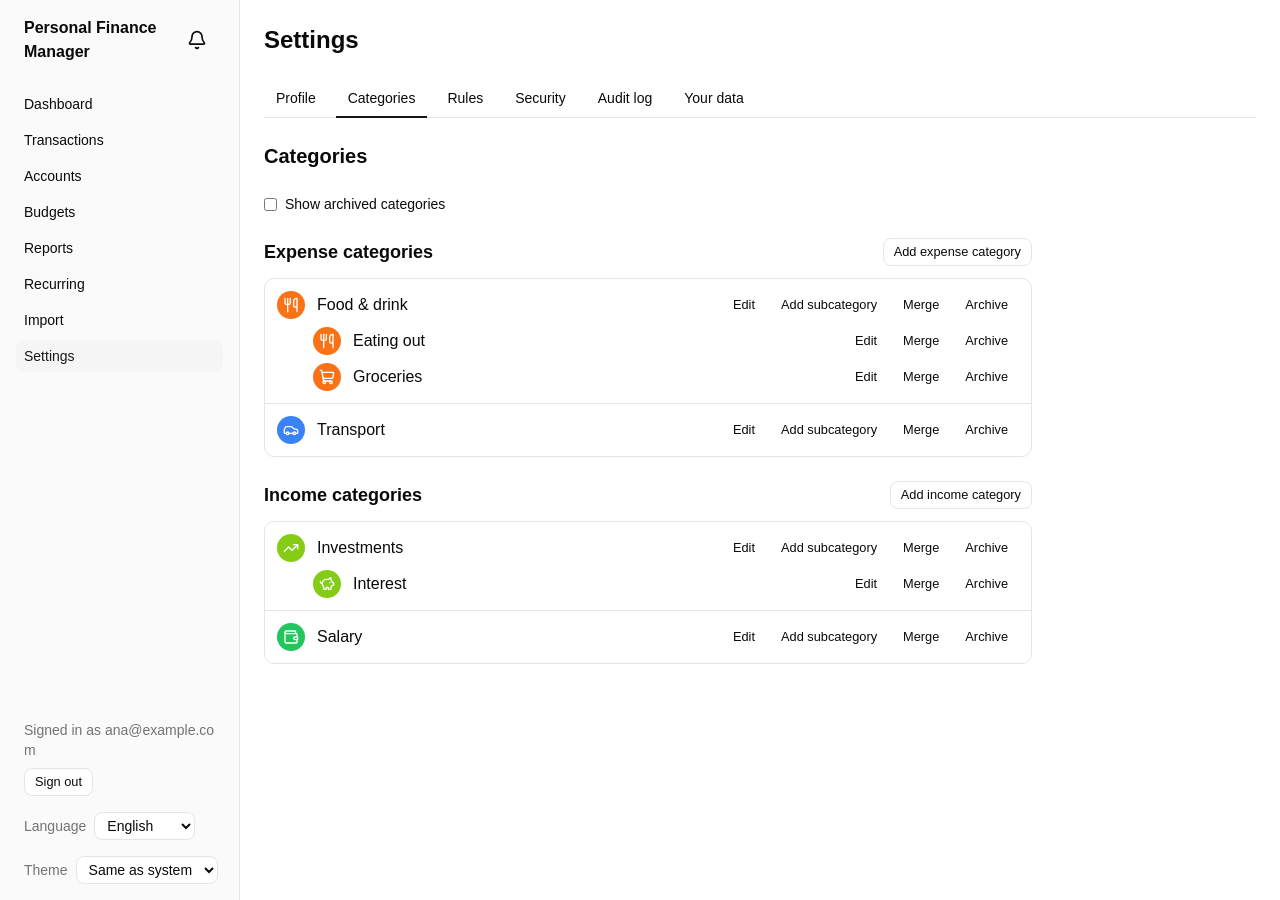
Test case: the categories screen › adds a subcategory, which always has its parent’s kind
Click the button with aria-label "Add subcategory to Food & drink" at (829, 305), box [770,291,888,319]
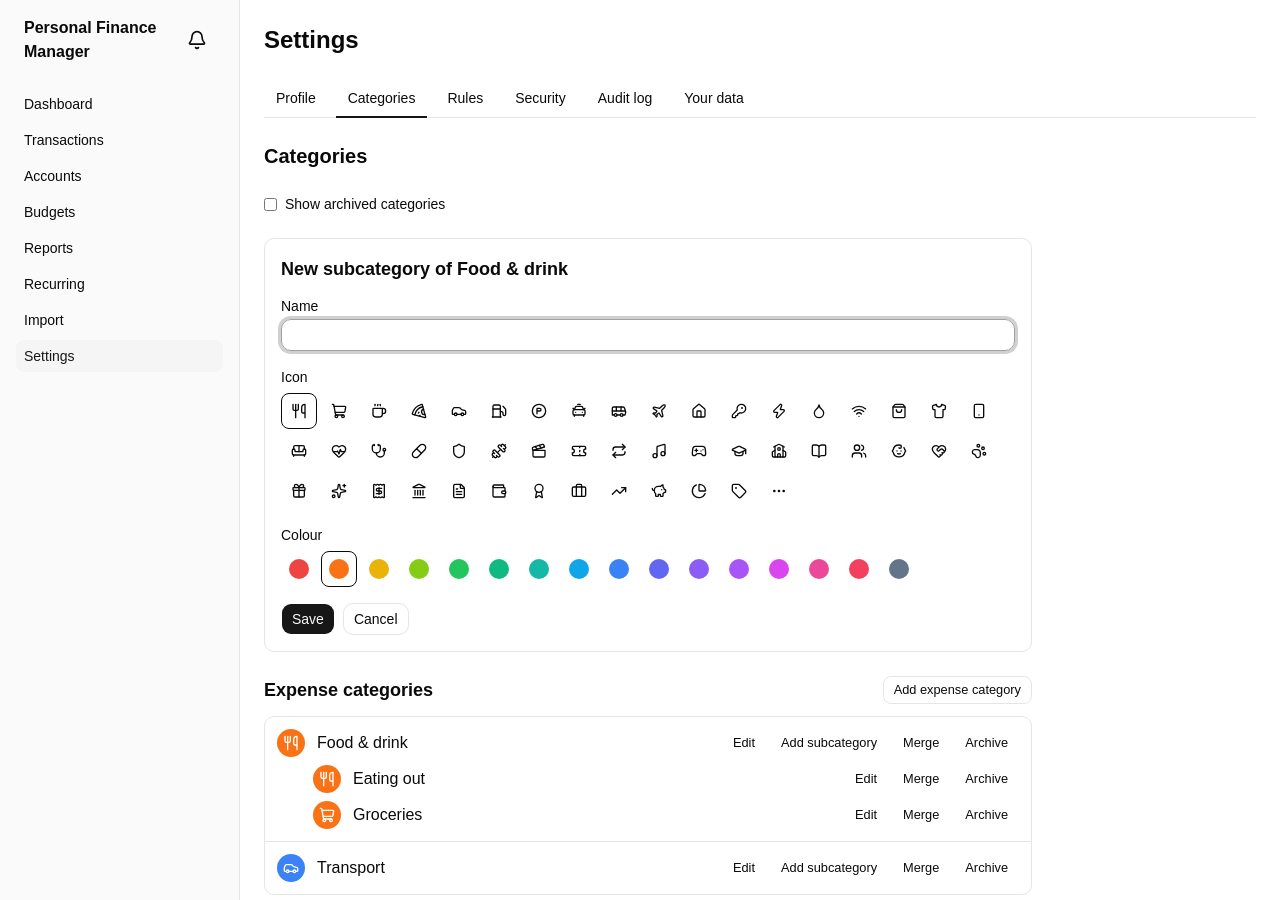
expect the radio button labelled "Income" is not shown: met
Type "Coffee" into the field labelled "Name" at (648, 335), box [281,319,1015,351]
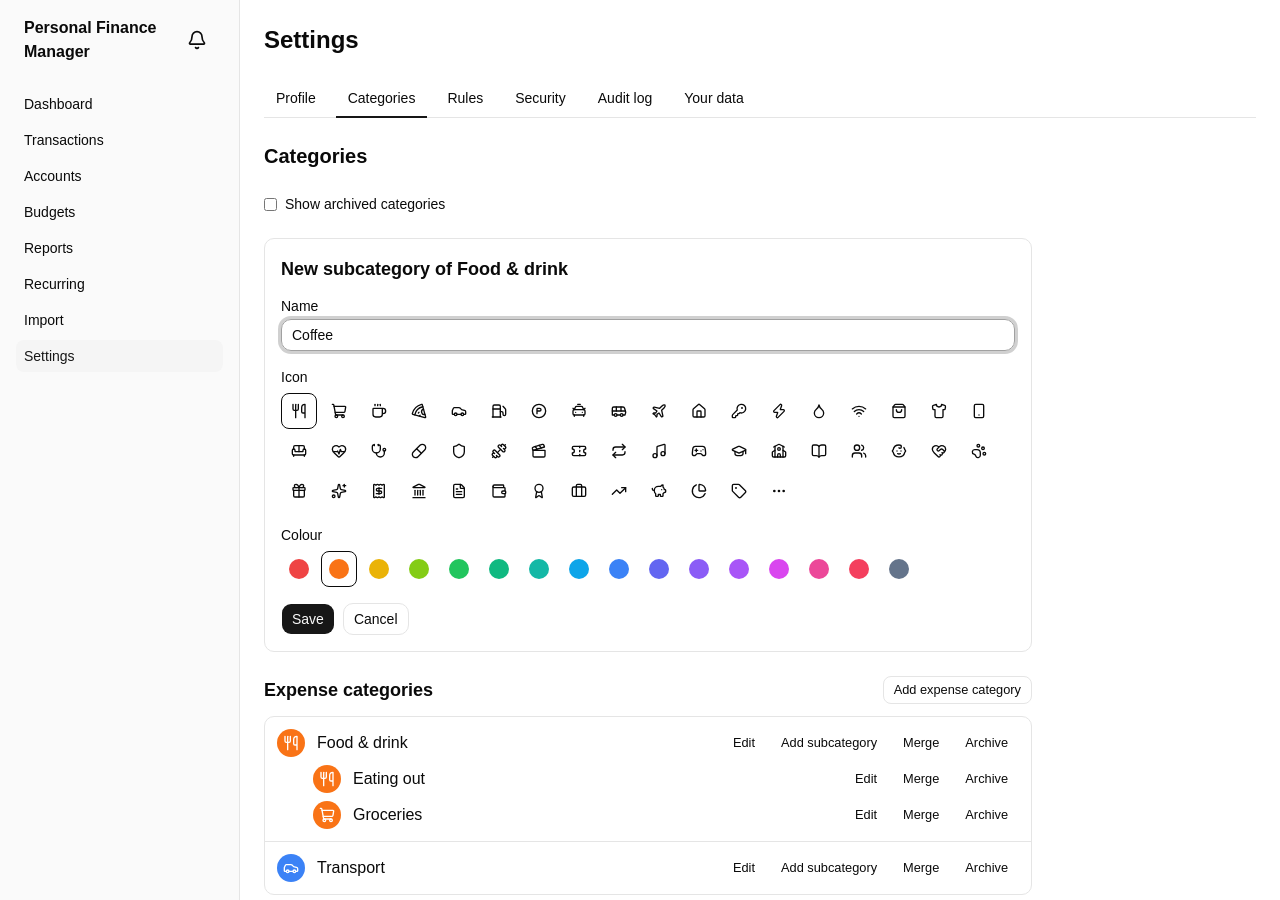
Click the button "Save" at (308, 619), box [281,603,335,635]
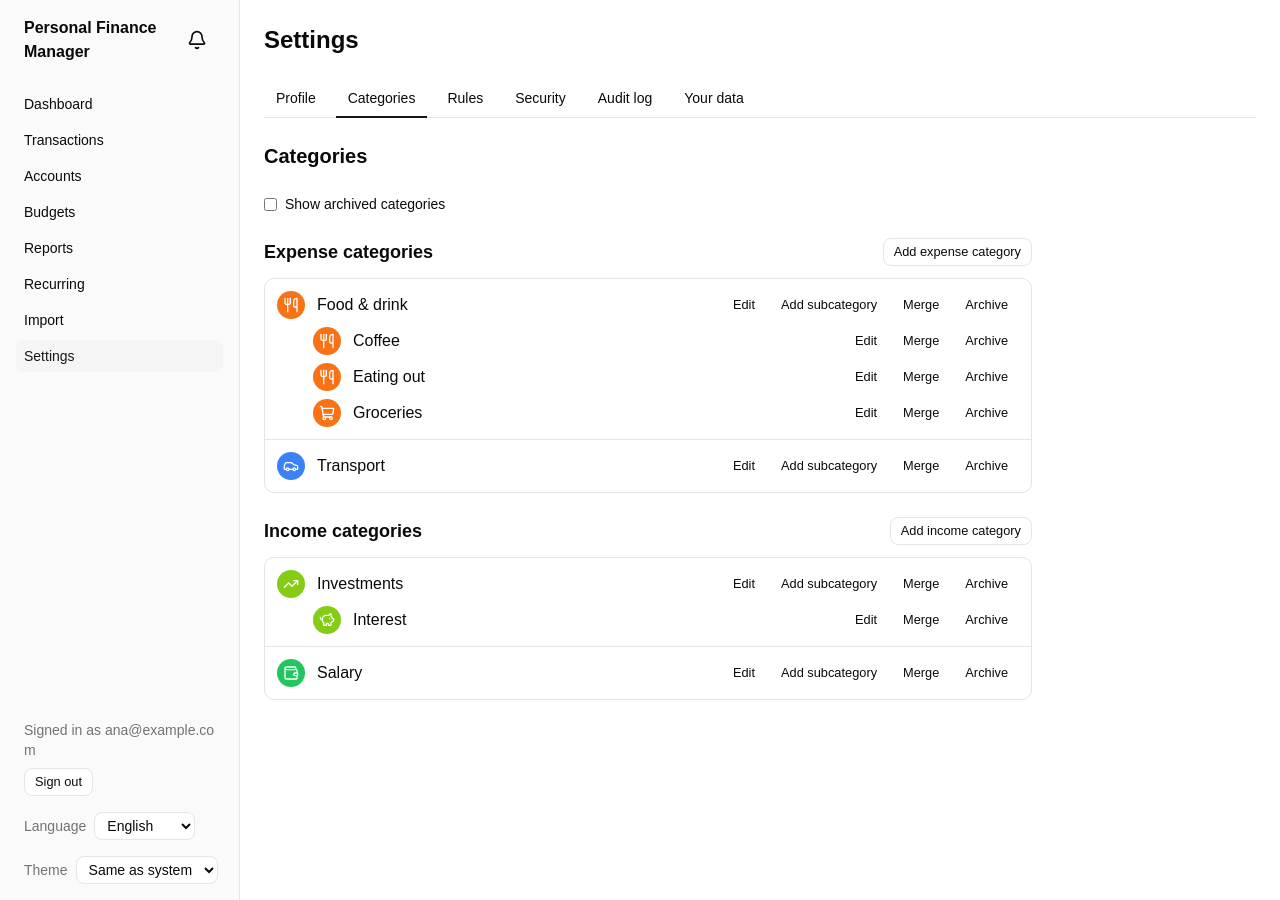
expect the list item "Coffee" is shown: met, box [313,327,1019,355]
